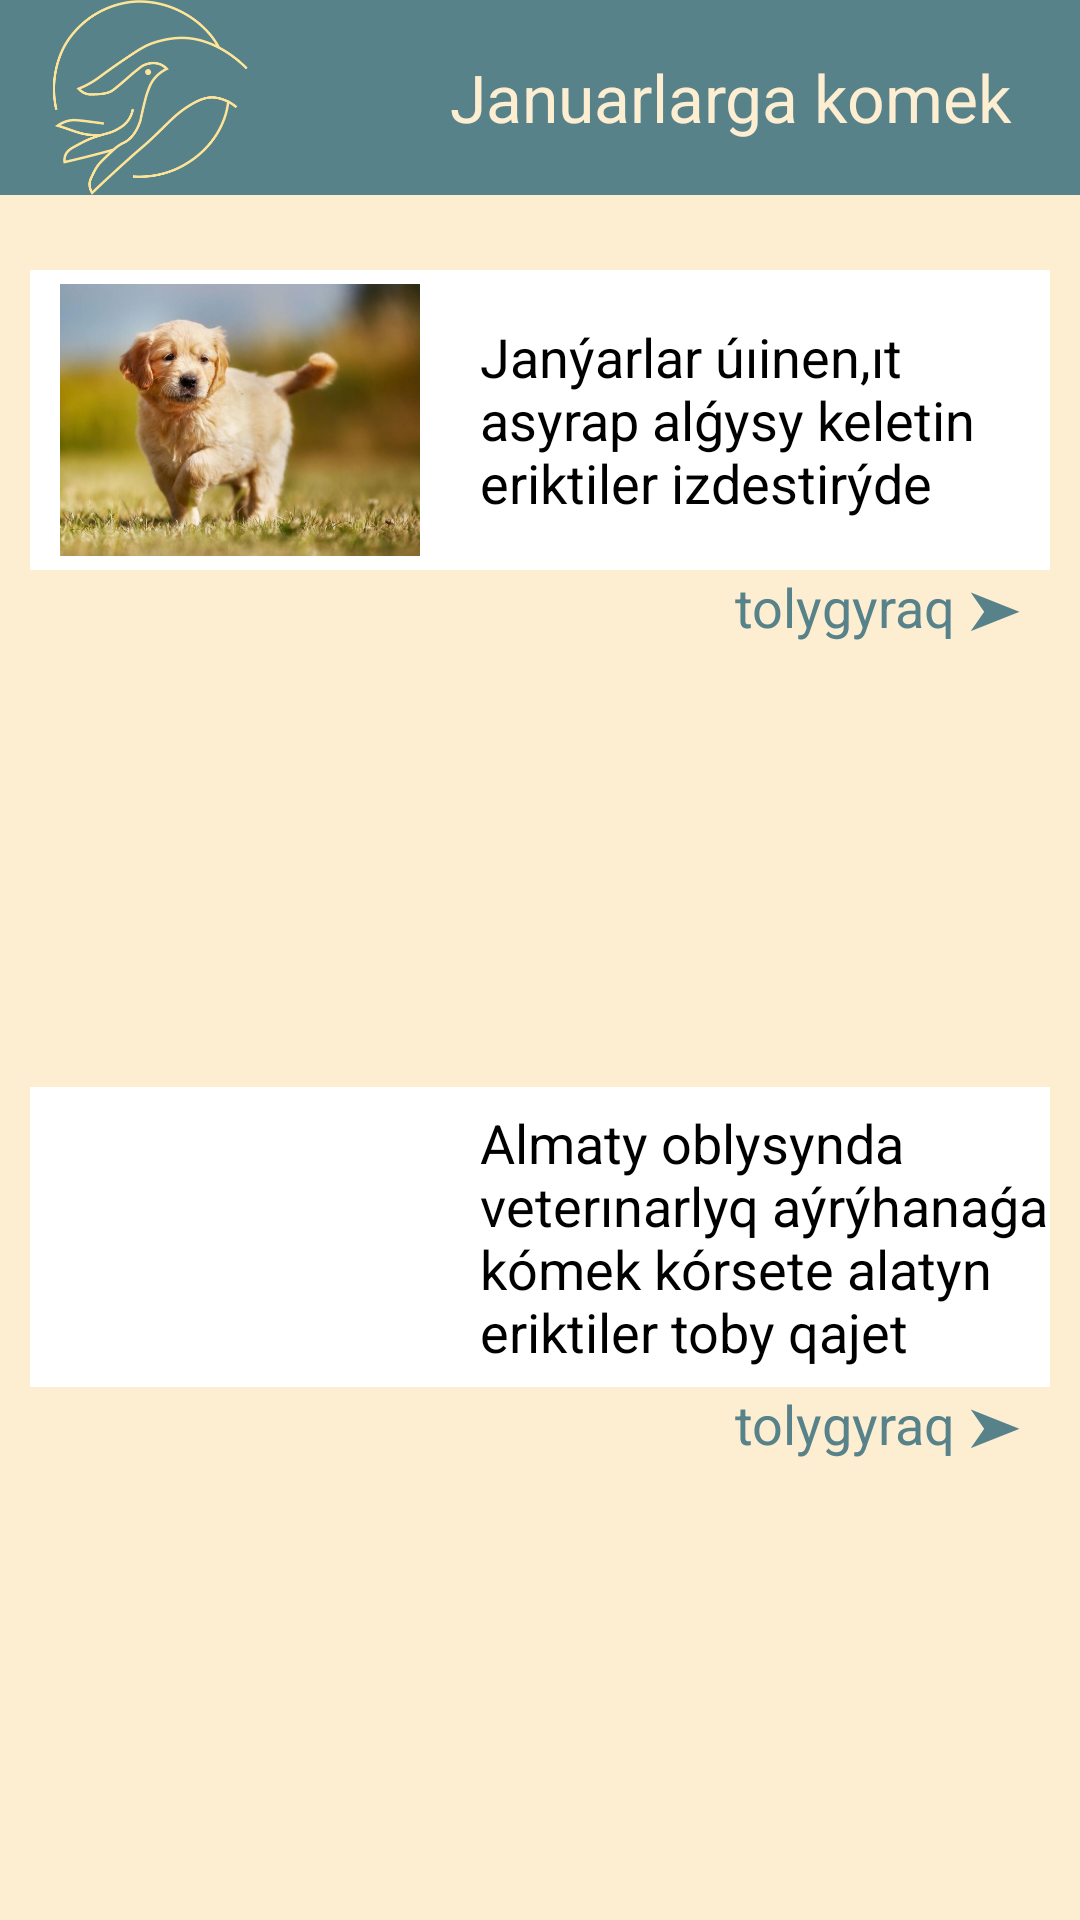

Named icons in this screenshot (1080x1920) and their centers, (x=x, y=y):
kushik: (x=240, y=420)
